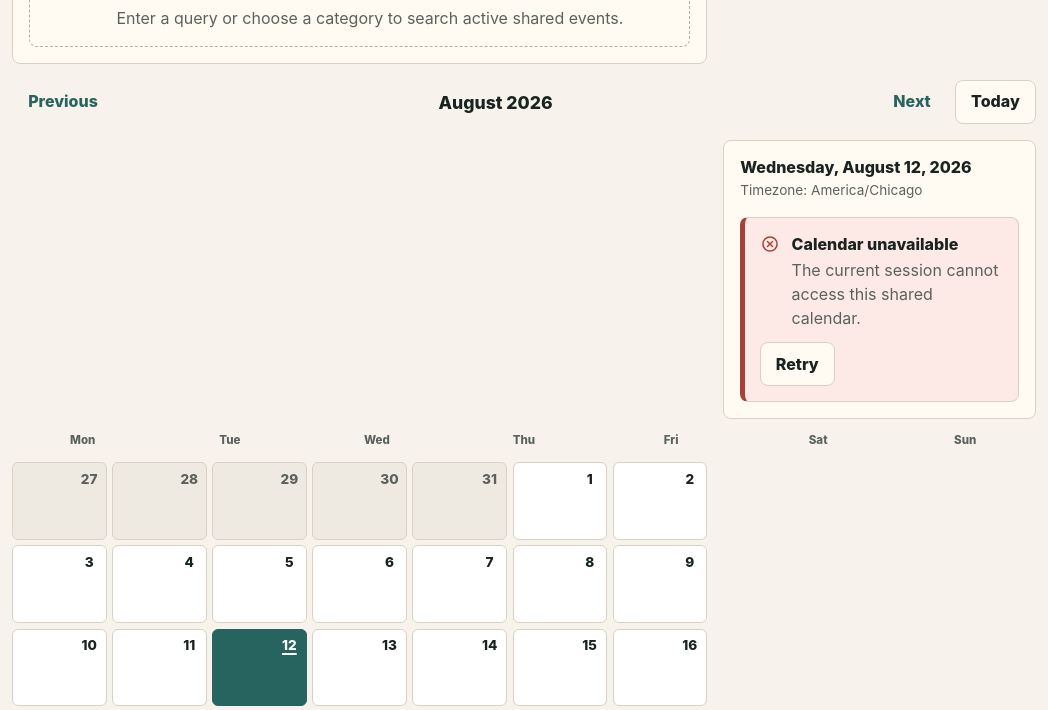
Test: SharedCalendar › shows a safe error state and retries loading
(page scrolled)
Expected: the text "The current session cannot access this shared calendar." is shown, [792,258,1004,330]
Click the button "Retry".
click(797, 364)  # box [760,342,835,386]
(page scrolled)
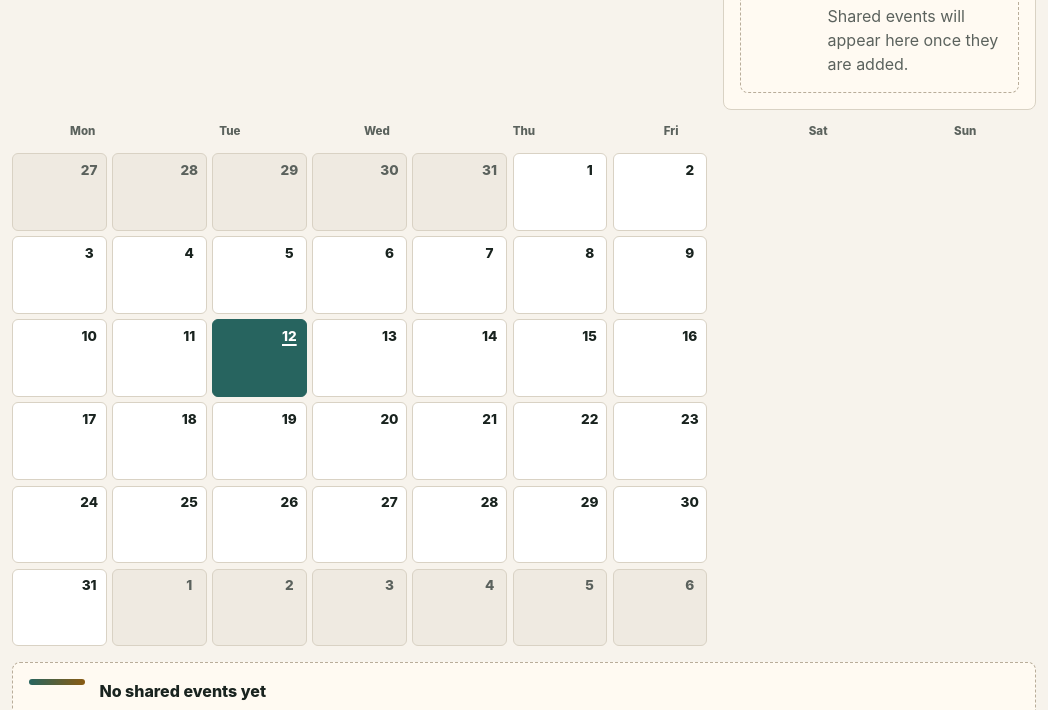
Expected: the heading "No shared events yet" is shown, [99,681,266,701]
